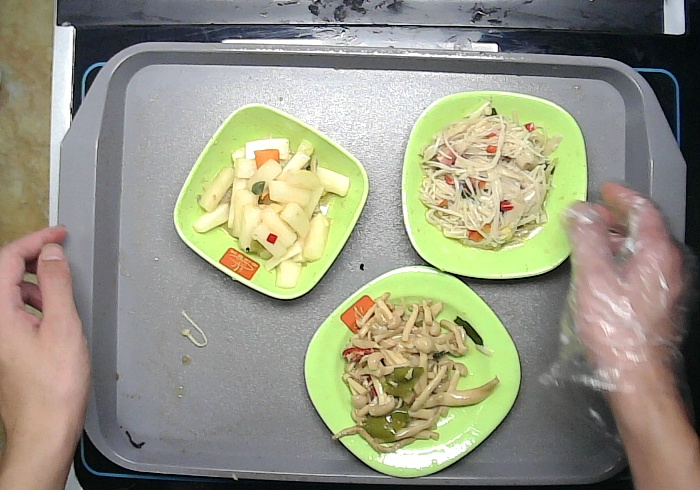SHKJ-Lv_Se_Cai_Die: (394, 88, 596, 289)
SHKJ-Lv_Se_Si_Fang_Cai_Die: (297, 264, 530, 480)
SHKJ-Lv_Se_Xiao_Fang_Die: (165, 100, 374, 307)
